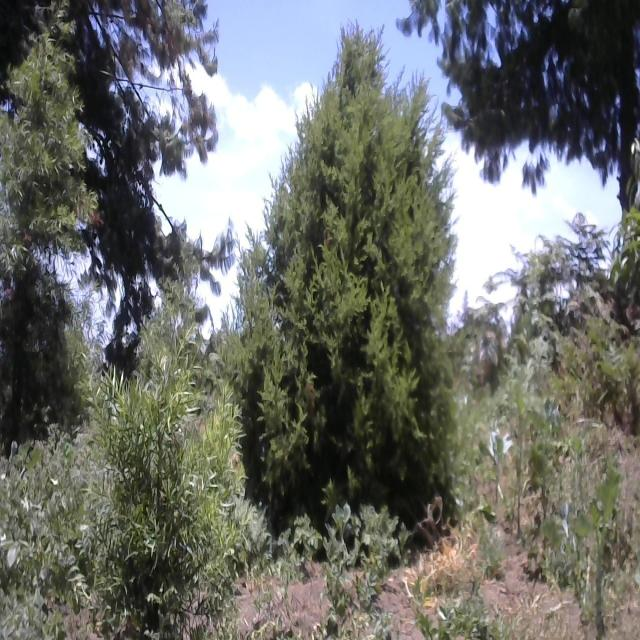Juniperus procesera: (247, 11, 470, 546)
Podocarpus falcatus: (94, 294, 237, 622), (2, 4, 102, 314)
